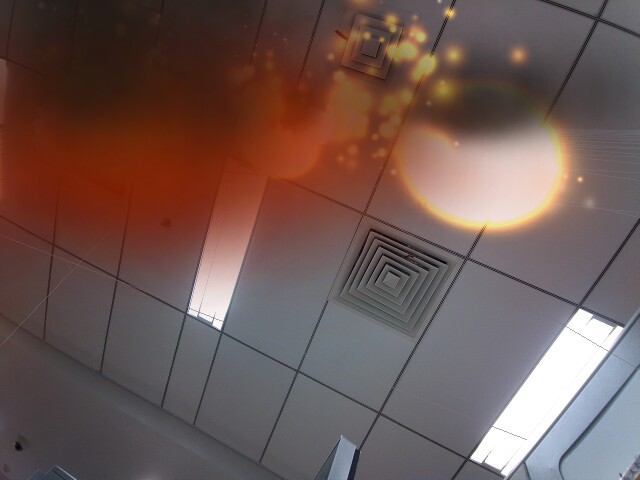fire: (396, 73, 569, 236), (239, 107, 326, 181)
